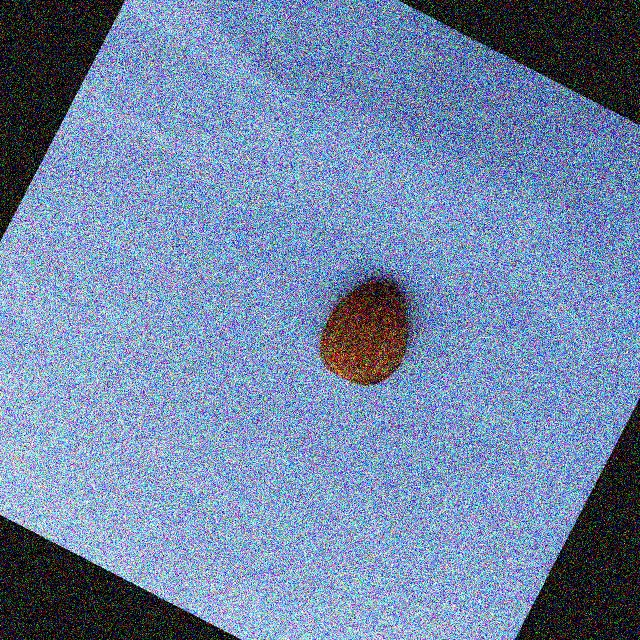grade1: (295, 253, 441, 408)
